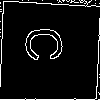C: (25, 26, 72, 63)
